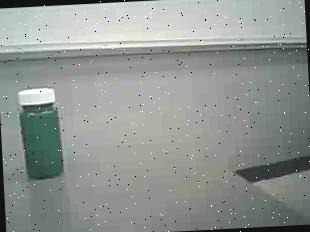Bottle C: (5, 80, 77, 193)
